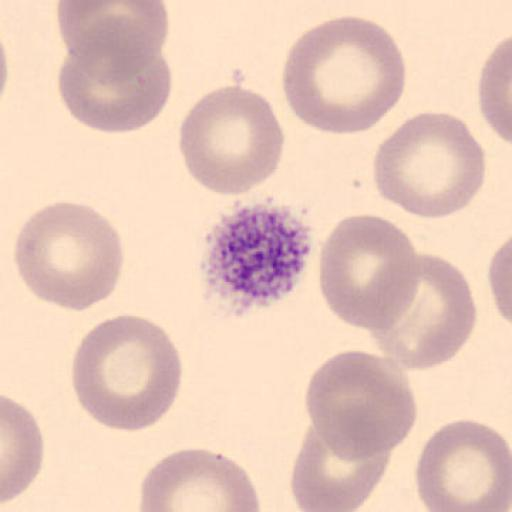Platelet: (196, 199, 315, 316)
RBC: (280, 14, 407, 136), (70, 313, 184, 435), (363, 251, 478, 371), (12, 199, 126, 313), (371, 110, 487, 220), (303, 348, 418, 458), (318, 212, 422, 332), (177, 84, 285, 198), (57, 42, 173, 134), (413, 417, 511, 512), (289, 424, 392, 511), (138, 445, 261, 512), (58, 0, 170, 61), (66, 18, 160, 86), (2, 395, 44, 505), (478, 35, 512, 147), (488, 233, 512, 331)
